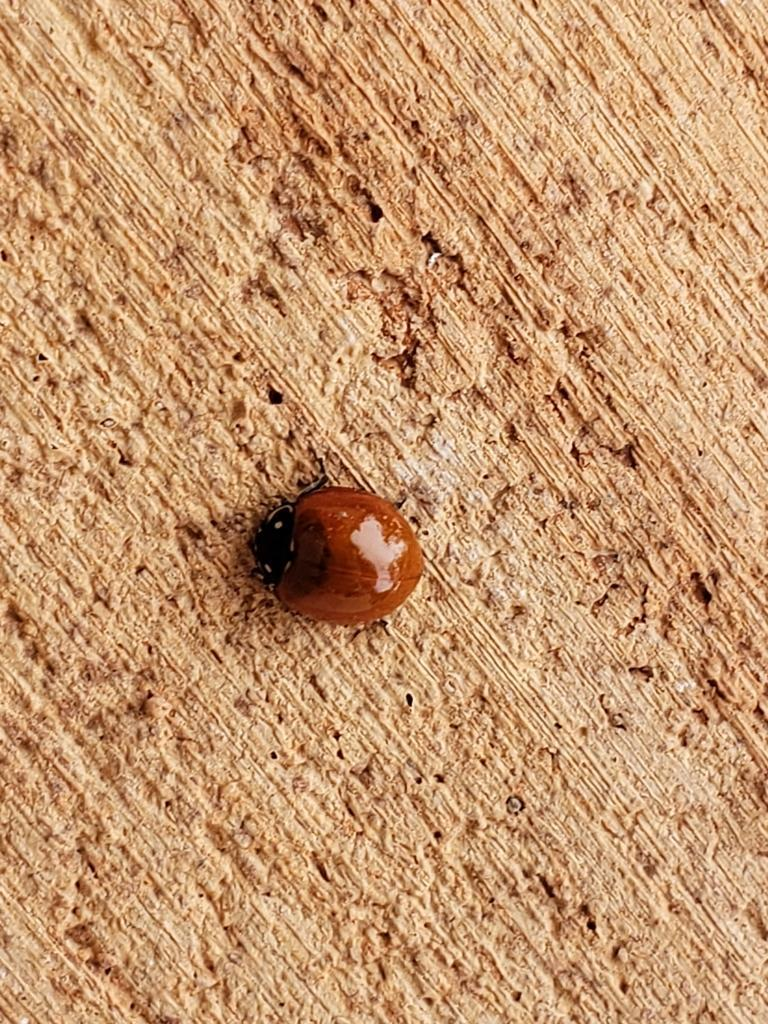ladybug: (249, 456, 429, 629)
